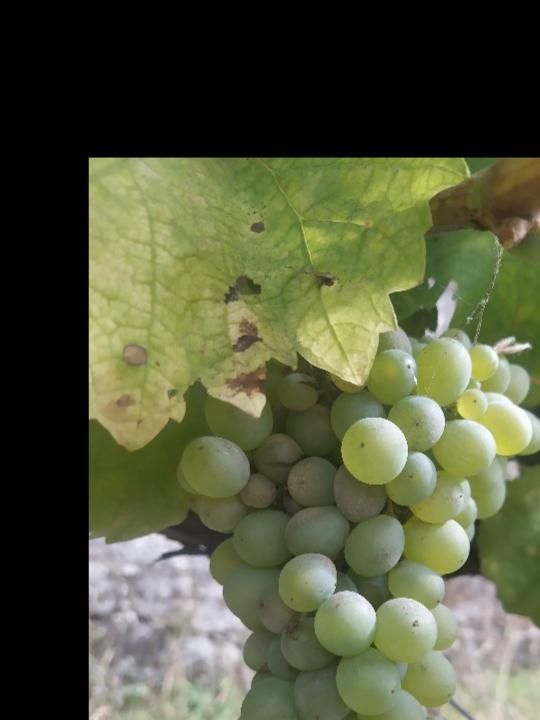grape: (178, 324, 540, 720)
